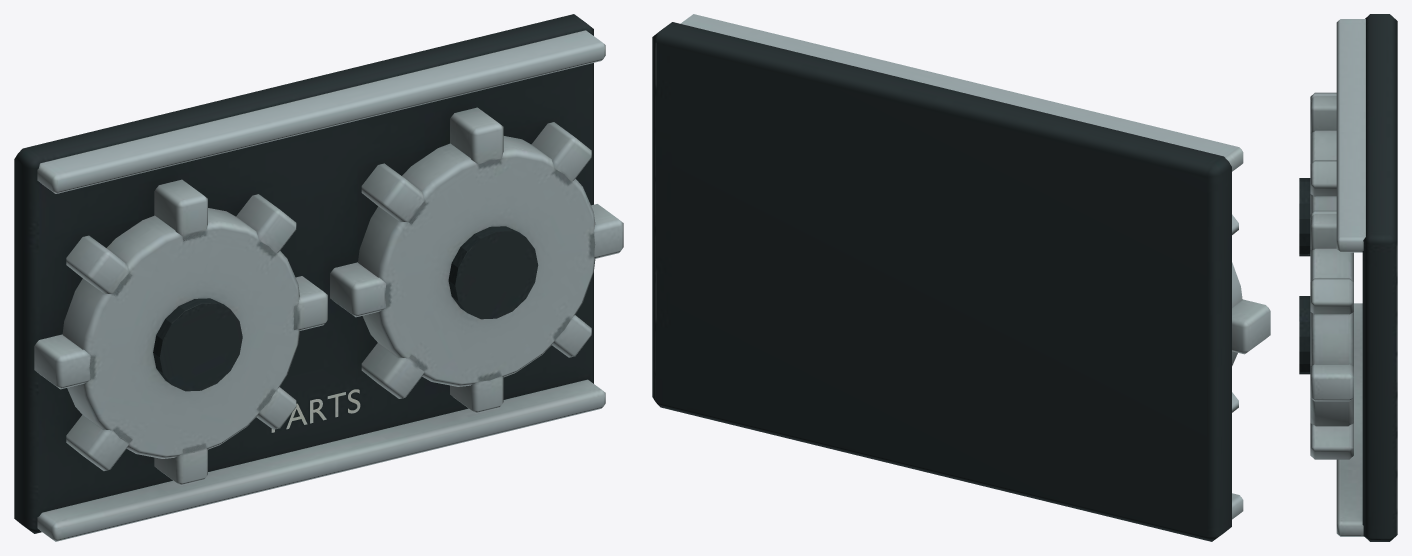
Rendered from component_tray.obj.
3 views of the same model, side by side, from view 1: azimuth 30°, elevation 25°; view 2: azimuth 150°, elevation 25°; view 3: azimuth 270°, elevation 25° (orthographic). The views are drawn at different scales.
Visible parts, largest first — view 1: component_tray; view 2: component_tray; view 3: component_tray.
Boxes of the visible parts, <box> form: component_tray: <box>14,14,623,541</box>; component_tray: <box>652,14,1270,541</box>; component_tray: <box>1299,14,1397,541</box>.
Bounding box in the file's own units: 0.124 × 0.078 × 0.0225.
Materials: 2 (2 with a texture image).
